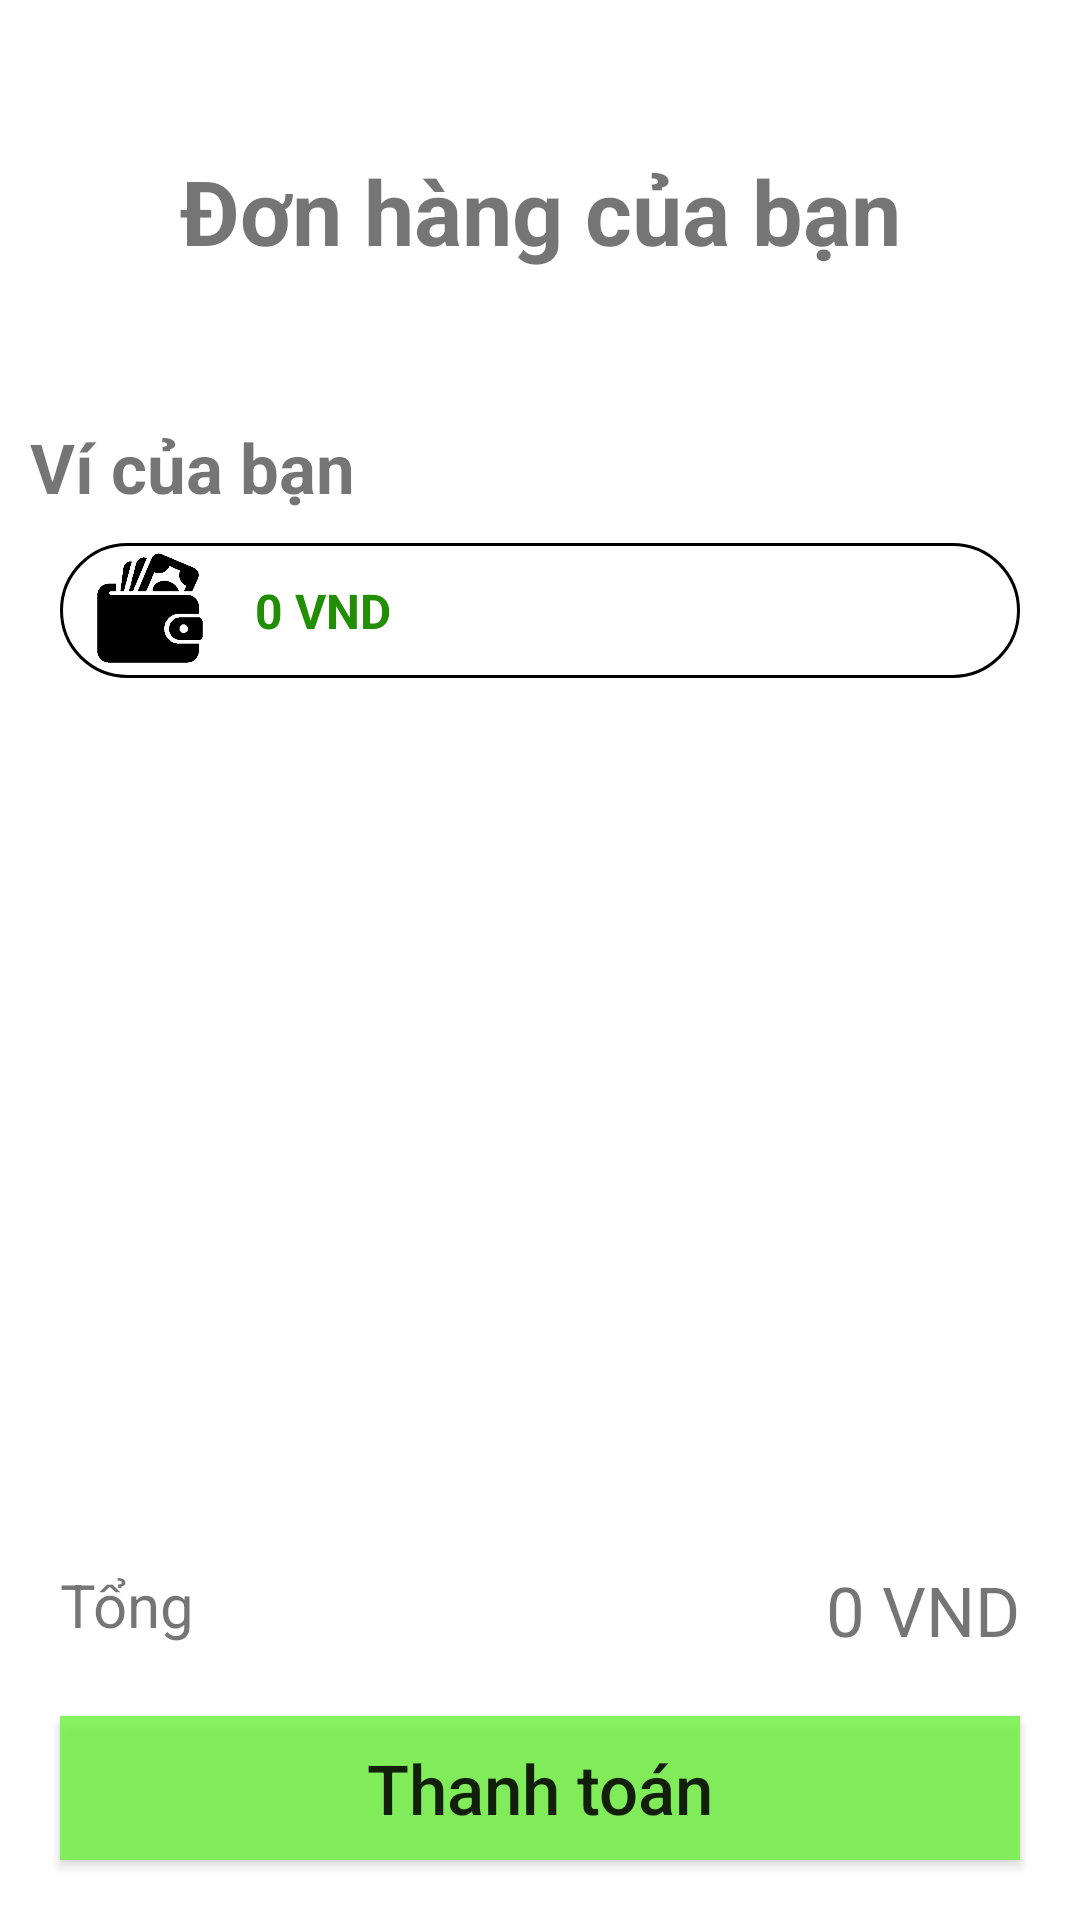

Point at icon controls on the screen. Image size 1080×1920, points as [x,y].
cash: [150,608]
